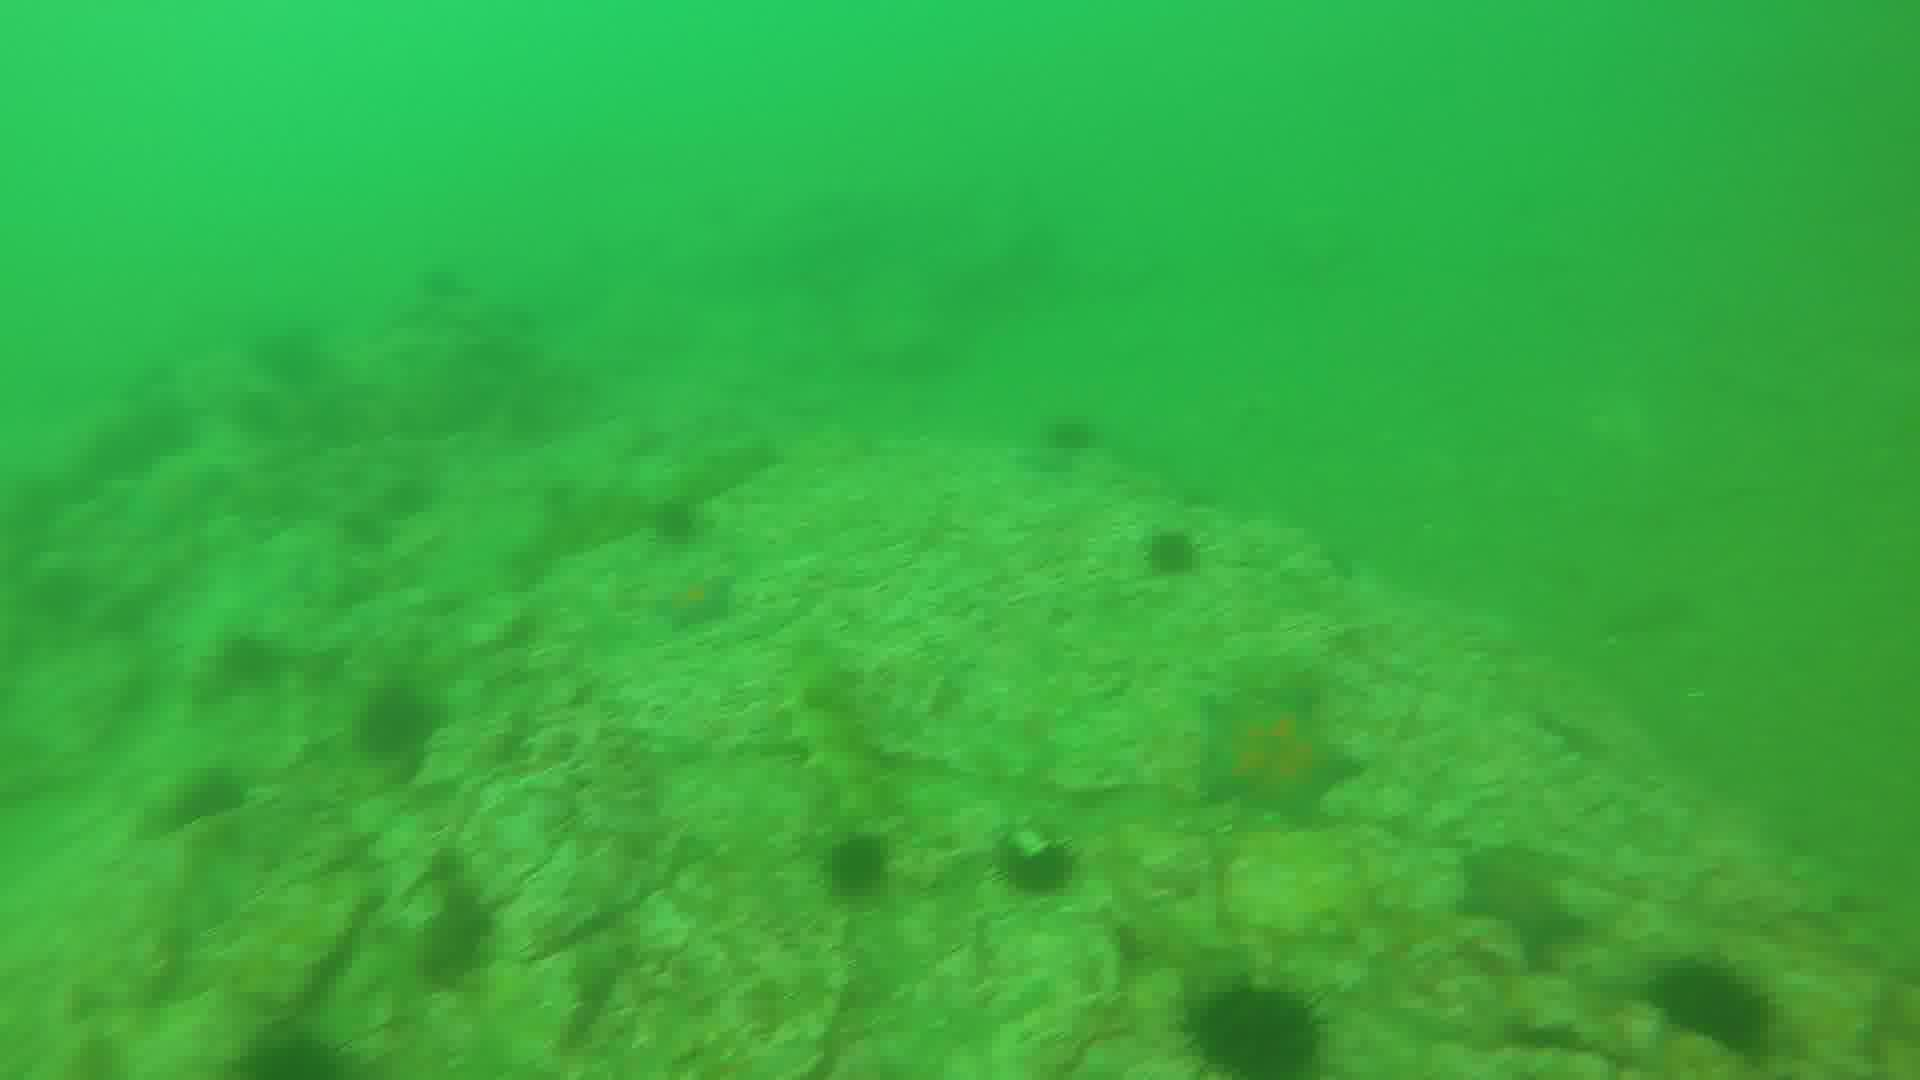echinus: (1185, 982, 1338, 1080), (1655, 948, 1774, 1046), (211, 1021, 338, 1080), (360, 688, 440, 754), (1006, 824, 1069, 893), (825, 843, 877, 895), (1143, 527, 1196, 578), (662, 504, 708, 545), (1048, 423, 1096, 454)
starfish: (1203, 692, 1346, 819), (1464, 856, 1589, 965), (650, 574, 746, 624)
